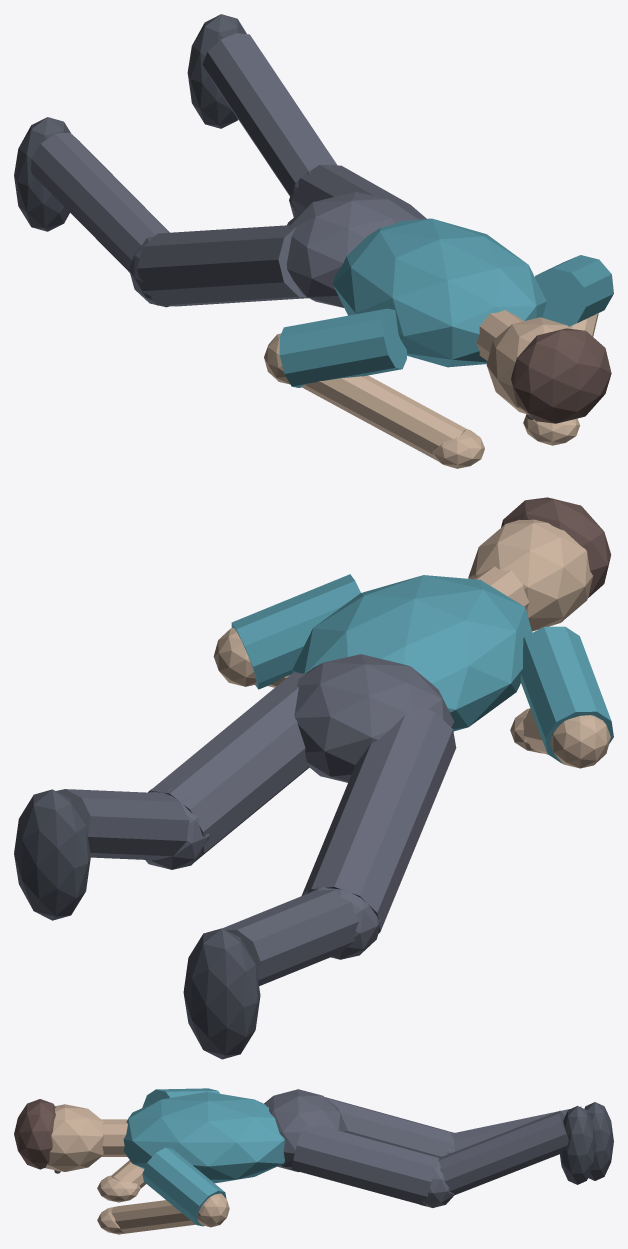
The picture shows the model from 3 angles, top to bottom: view 1: azimuth 30°, elevation 25°; view 2: azimuth 150°, elevation 25°; view 3: azimuth 270°, elevation 25°; orthographic projection. The views are drawn at different scales.
Parts seen in each view (by area): view 1: world; view 2: world; view 3: world.
Boxes of the visible parts, x1,y1,x2,y2 form: world: [14, 14, 613, 468]; world: [14, 497, 613, 1059]; world: [14, 1088, 613, 1234].
Bounding box in the file's own units: 0.93 × 0.4905 × 2.06.
